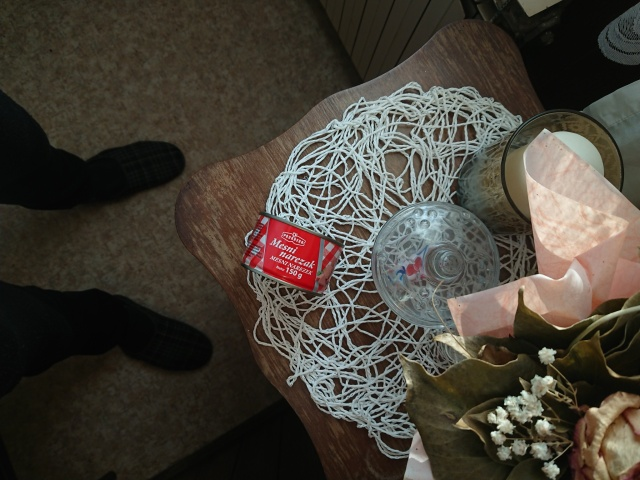Podravka Luncheon Meat 150g: (239, 209, 348, 298)
